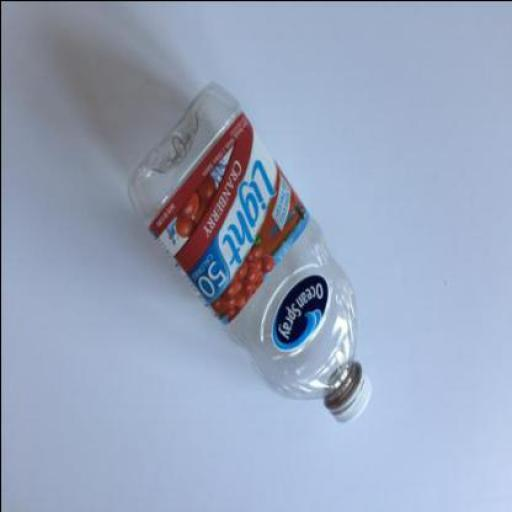plastic: (130, 84, 370, 423), (326, 367, 371, 421)
